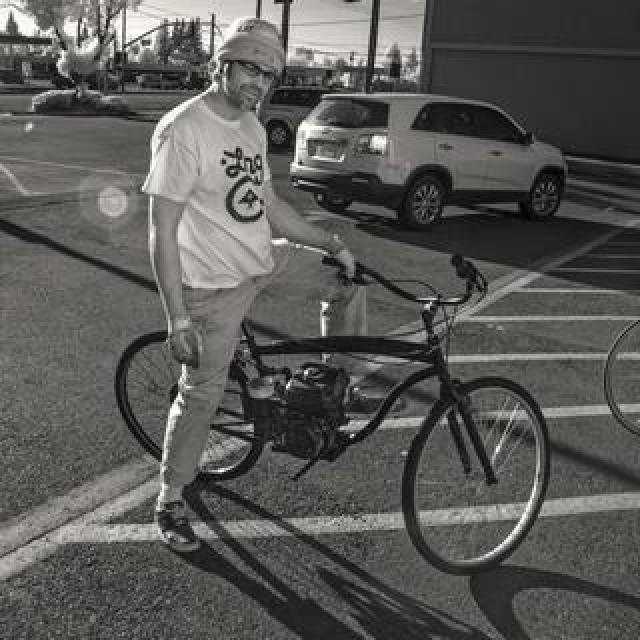Bus-Bike: (288, 94, 572, 228), (258, 84, 334, 150)
MC-Bike: (138, 34, 362, 566)
Person: (124, 262, 558, 566)
